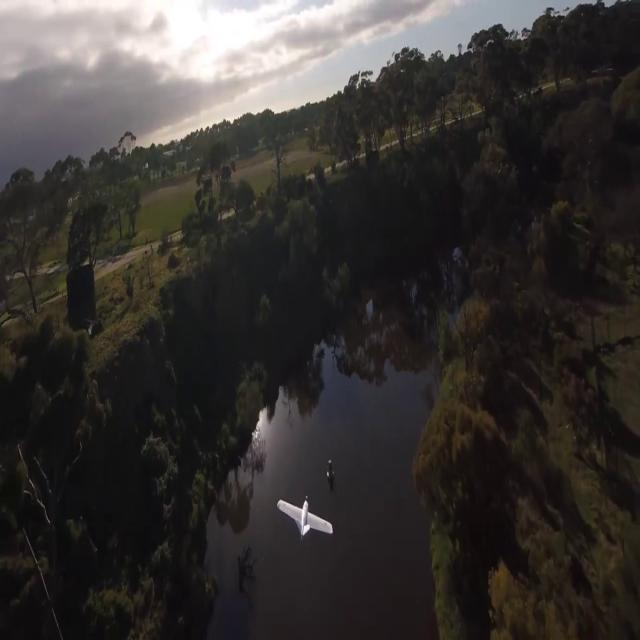iha: (276, 494, 334, 537)
